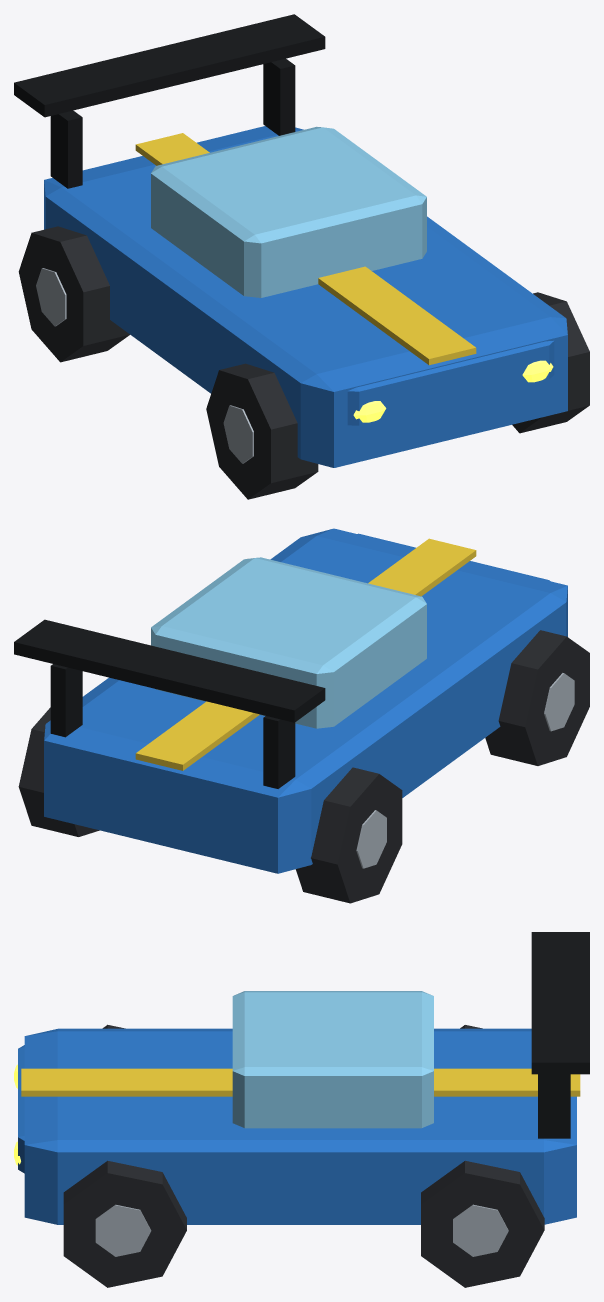
Rendered from rival-car-lod1.glb.
3 renders of one model, top to bottom at view 1: azimuth 30°, elevation 25°; view 2: azimuth 150°, elevation 25°; view 3: azimuth 270°, elevation 25°, orthographic. The views are drawn at different scales.
Parts seen in each view (by area): view 1: rival-car; view 2: rival-car; view 3: rival-car.
Boxes of the visible parts, left/top/right/bottom form: rival-car: left=14, top=14, right=589, bottom=499; rival-car: left=14, top=528, right=589, bottom=903; rival-car: left=14, top=932, right=589, bottom=1287.
Size of the model in its own units: 1.09 by 0.735 by 1.77.
